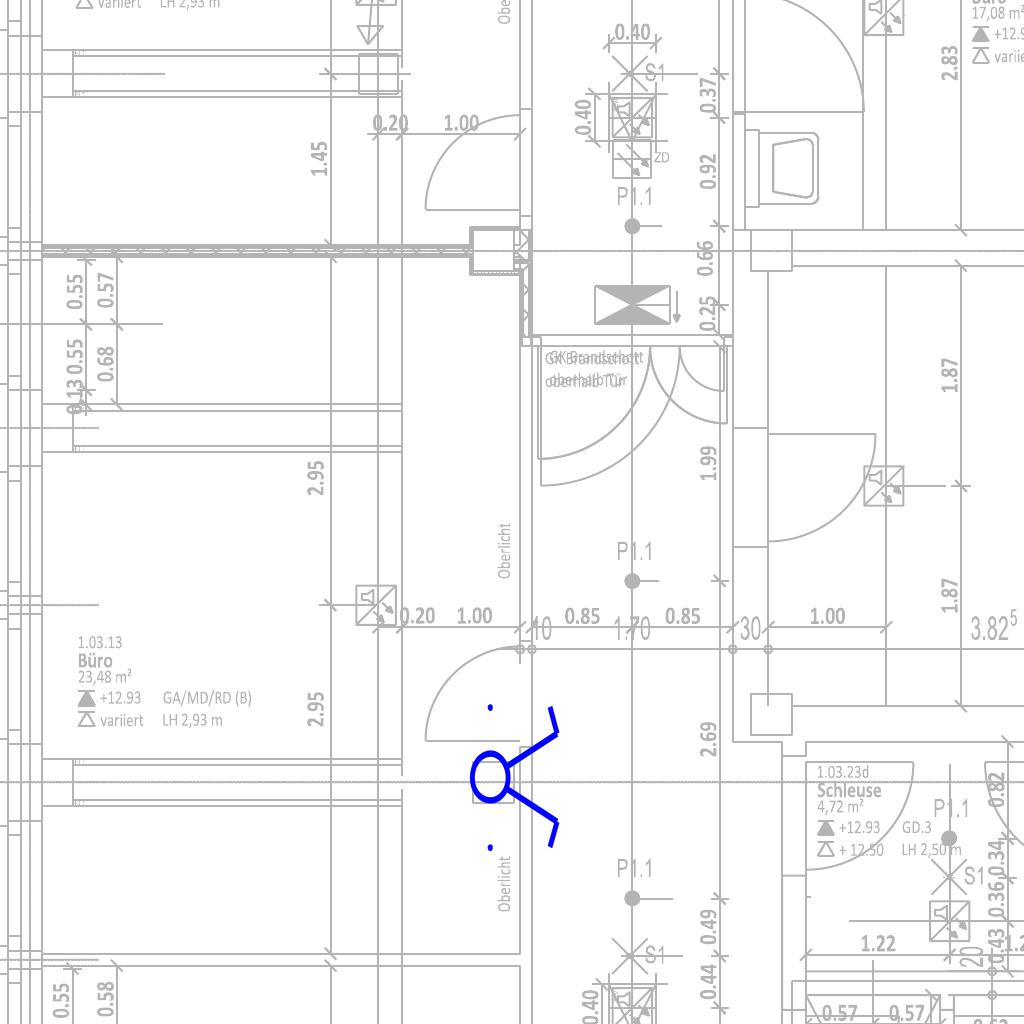Serienschalter: (468, 692, 564, 860)
